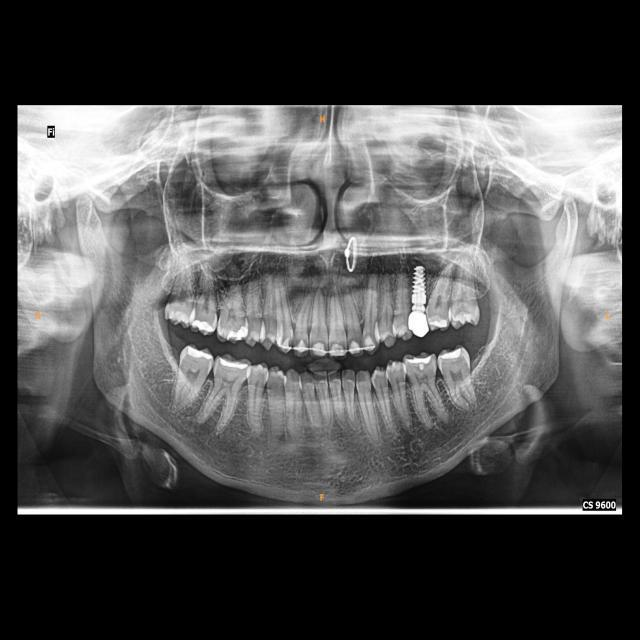dolgu: (183, 342, 212, 364), (190, 314, 220, 334), (226, 320, 250, 344), (436, 343, 466, 362), (406, 352, 436, 370), (219, 356, 248, 373), (373, 321, 384, 346), (431, 314, 450, 328), (258, 318, 267, 340)
implant: (402, 261, 432, 335)
